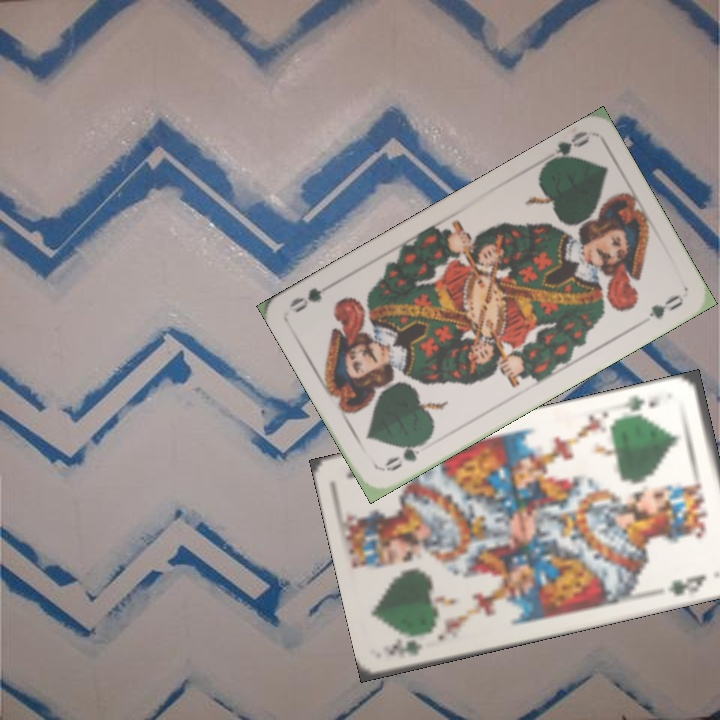GK: (619, 391, 664, 421), (385, 636, 425, 658)
GO: (539, 127, 592, 169), (379, 435, 431, 474)
